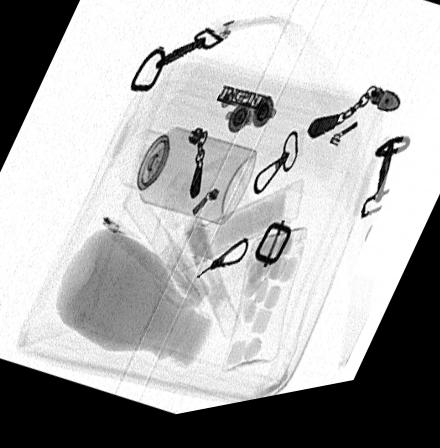Sprayer: (118, 133, 256, 234)
